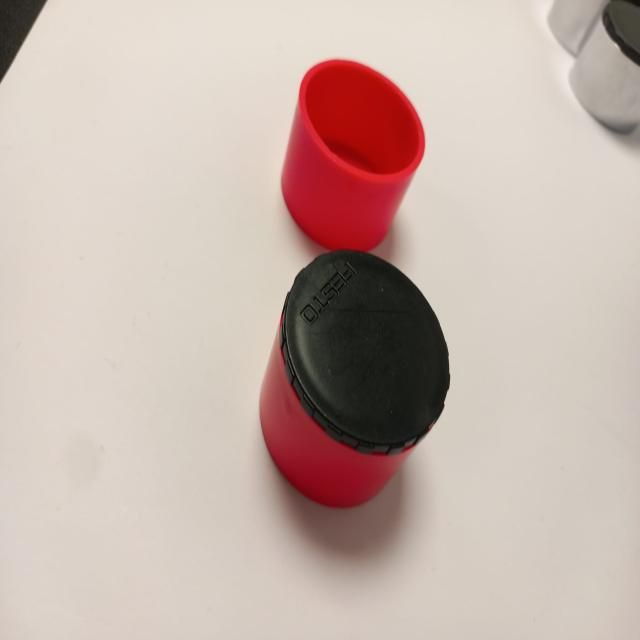NoLid: (272, 38, 435, 252)
Workpiece: (249, 258, 474, 532)
